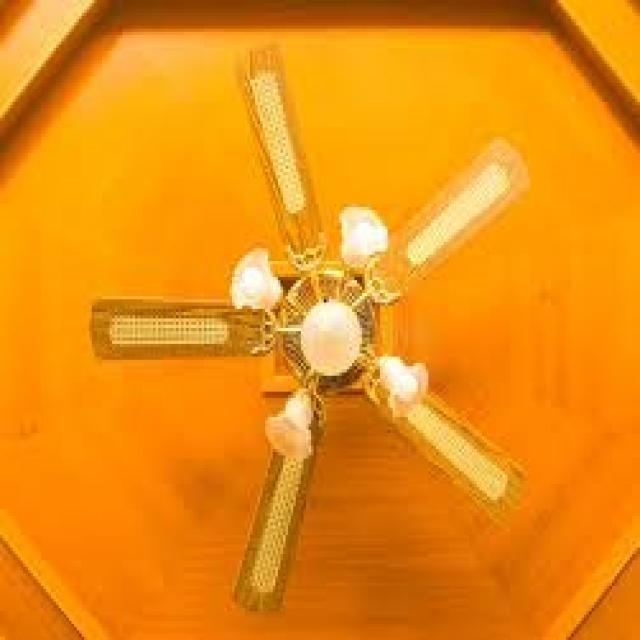bulb_off: (346, 210, 390, 261), (232, 260, 277, 306), (379, 369, 425, 408)
fan_off: (99, 64, 529, 604)
